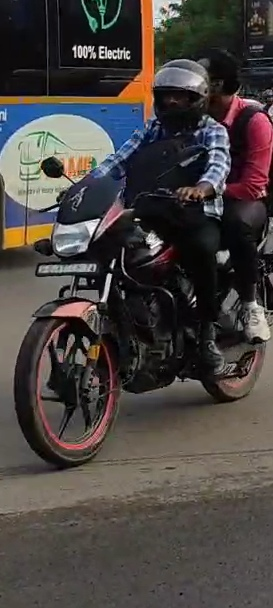BikeWithRider: (11, 46, 273, 467)
Helmet: (149, 56, 211, 134)
NoHelmet: (197, 50, 241, 101)
